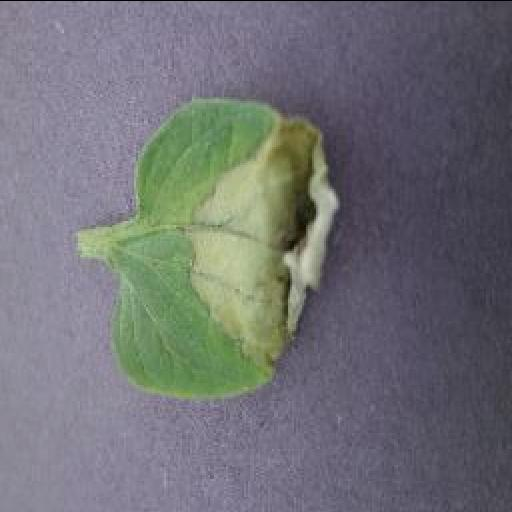disease_tomato: (118, 94, 342, 402)
